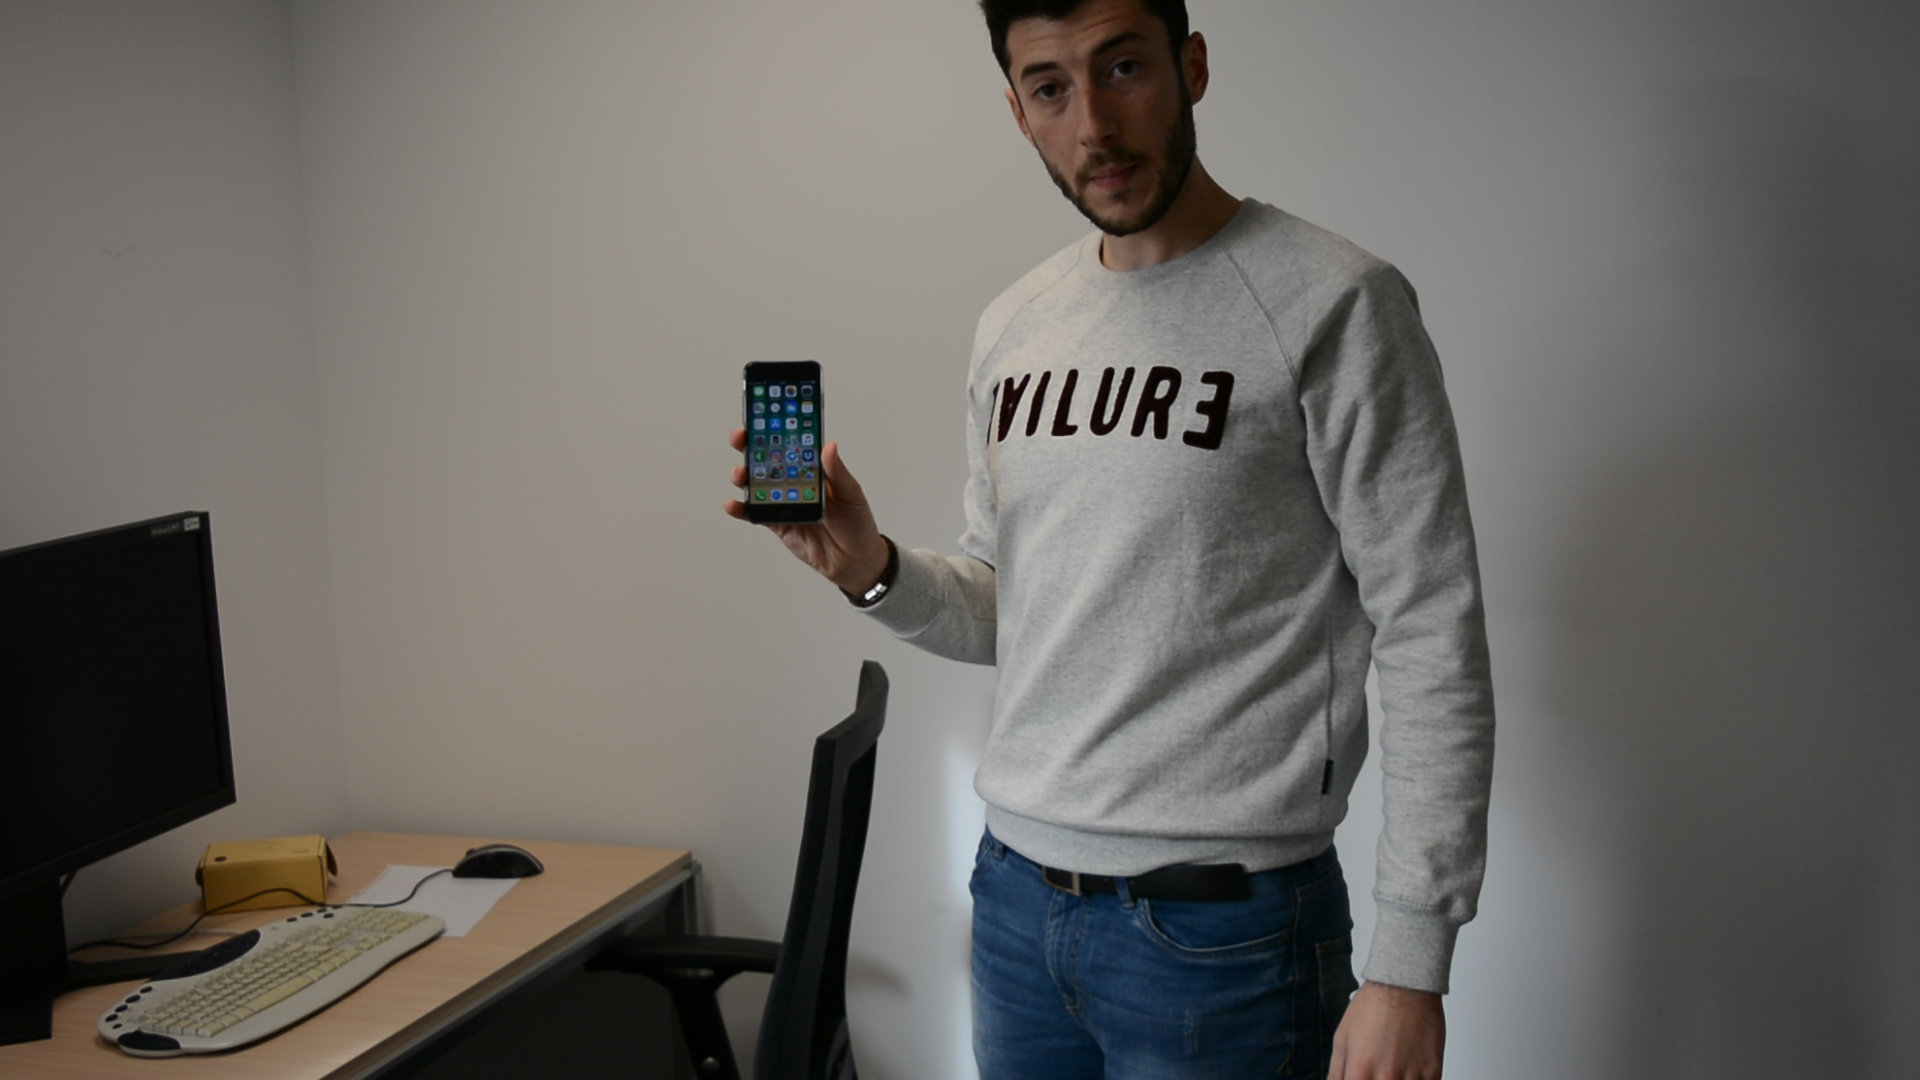smartphone: (741, 357, 825, 525)
